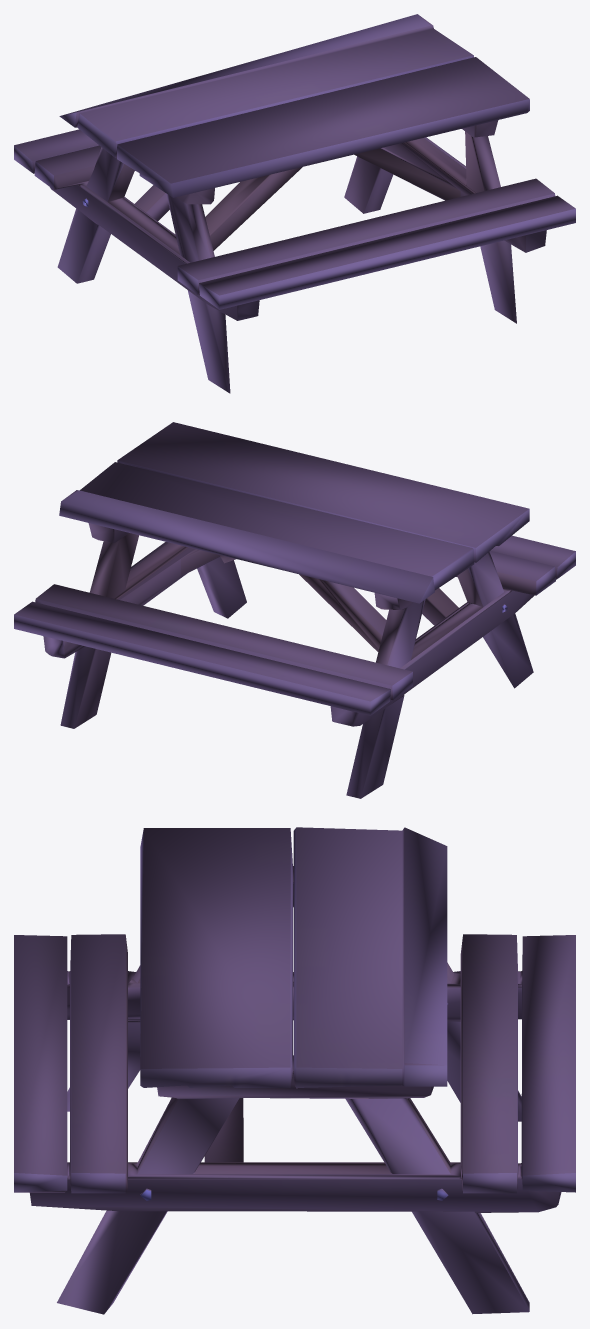
The model's file is model.progressive.glb.
3 views of the same model, one above another, from view 1: azimuth 30°, elevation 25°; view 2: azimuth 150°, elevation 25°; view 3: azimuth 270°, elevation 25° (orthographic). The views are drawn at different scales.
Visible parts, largest first — view 1: material; view 2: material; view 3: material.
Part boxes in pixels (x1=…): material: x1=14, y1=14, x2=575, y2=393; material: x1=14, y1=422, x2=575, y2=798; material: x1=14, y1=827, x2=575, y2=1314.
Size of the model in its own units: 1.9 by 0.9881 by 1.88.
Materials: 1 (1 with a texture image).
